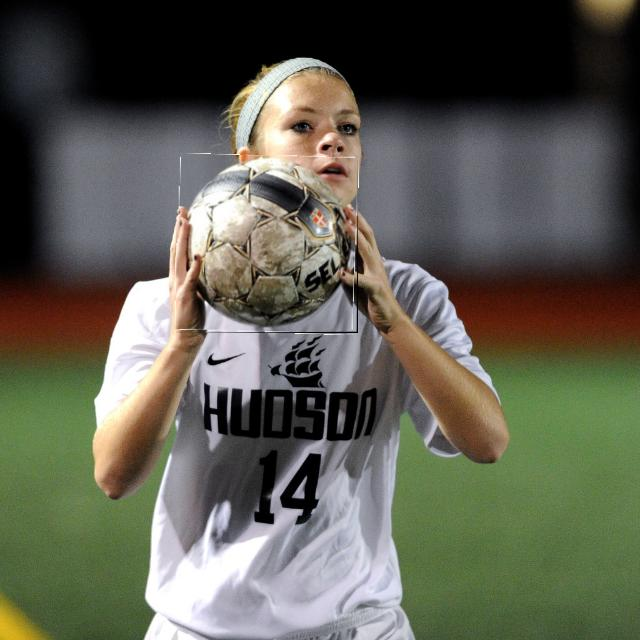Football: (176, 155, 358, 333)
